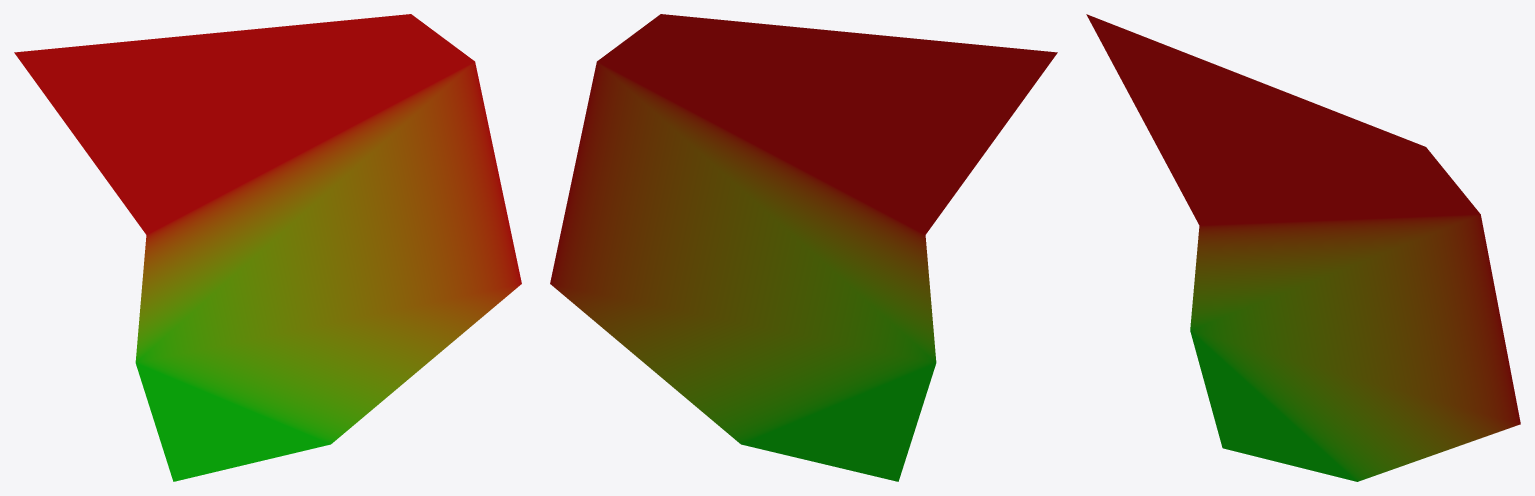
File: Var2_LOD4.fbx
3 views of the same model, side by side, from view 1: azimuth 30°, elevation 25°; view 2: azimuth 150°, elevation 25°; view 3: azimuth 330°, elevation 25° (orthographic). The views are drawn at different scales.
Parts seen in each view (by area): view 1: _b5bc_Var2_LOD4; view 2: _b5bc_Var2_LOD4; view 3: _b5bc_Var2_LOD4.
Boxes of the visible parts, x1=… form: _b5bc_Var2_LOD4: x1=14, y1=14, x2=521, y2=481; _b5bc_Var2_LOD4: x1=550, y1=14, x2=1057, y2=481; _b5bc_Var2_LOD4: x1=1086, y1=14, x2=1520, y2=481.
Size of the model in its own units: 49.23 by 43.47 by 4.83e-06.
